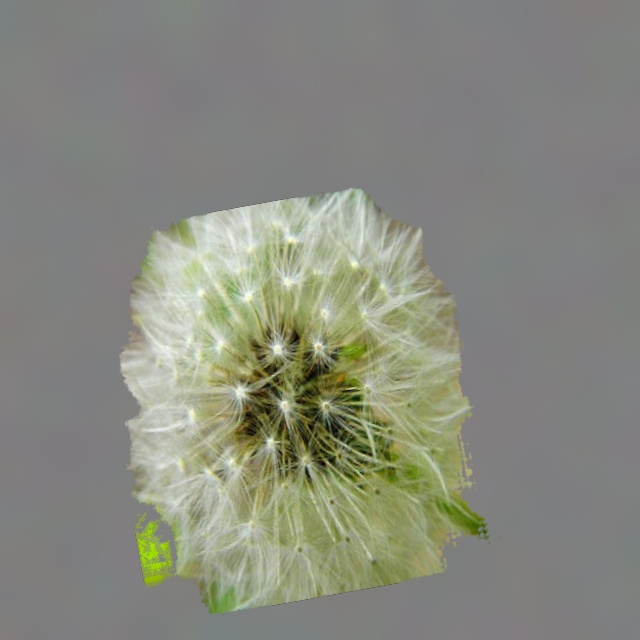butterfly flower: (125, 442, 173, 487)
dandelion: (119, 188, 487, 613)
